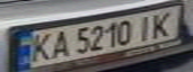0: (115, 17, 139, 45)
1: (106, 19, 124, 47)
2: (87, 22, 109, 52)
5: (72, 25, 93, 55)
A: (45, 28, 72, 60)
I: (133, 12, 160, 42)
K: (24, 30, 57, 63), (145, 8, 181, 38)
